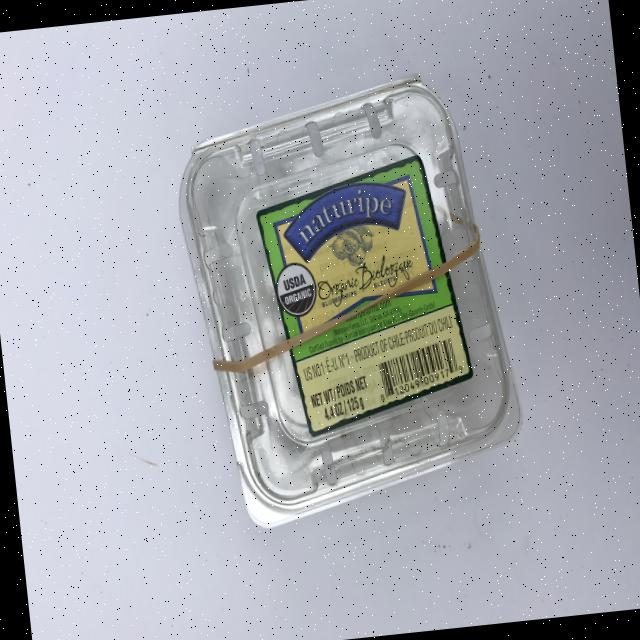plastic: (166, 67, 531, 534)
